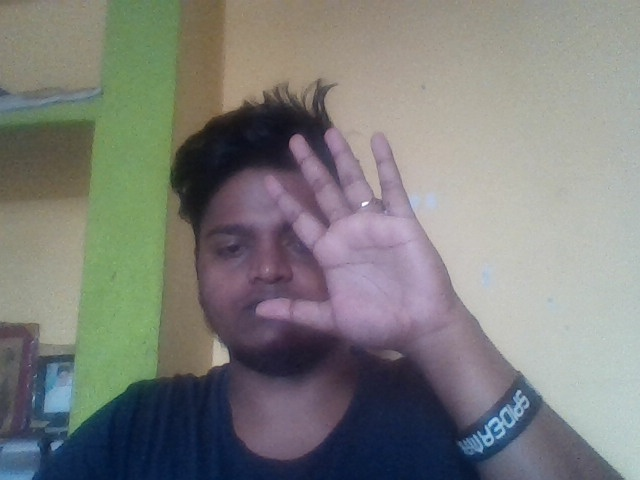Hello: (249, 118, 484, 364)
